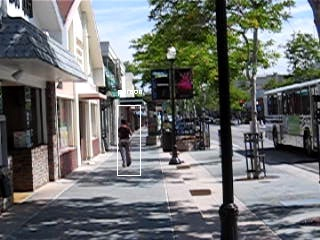person: (117, 119, 133, 170), (116, 119, 132, 170), (118, 119, 134, 170), (117, 118, 133, 169), (117, 120, 133, 171)
target_negative: (83, 92, 246, 156), (94, 156, 230, 230), (270, 39, 318, 123), (234, 191, 287, 235), (37, 237, 301, 239), (77, 215, 109, 225)
